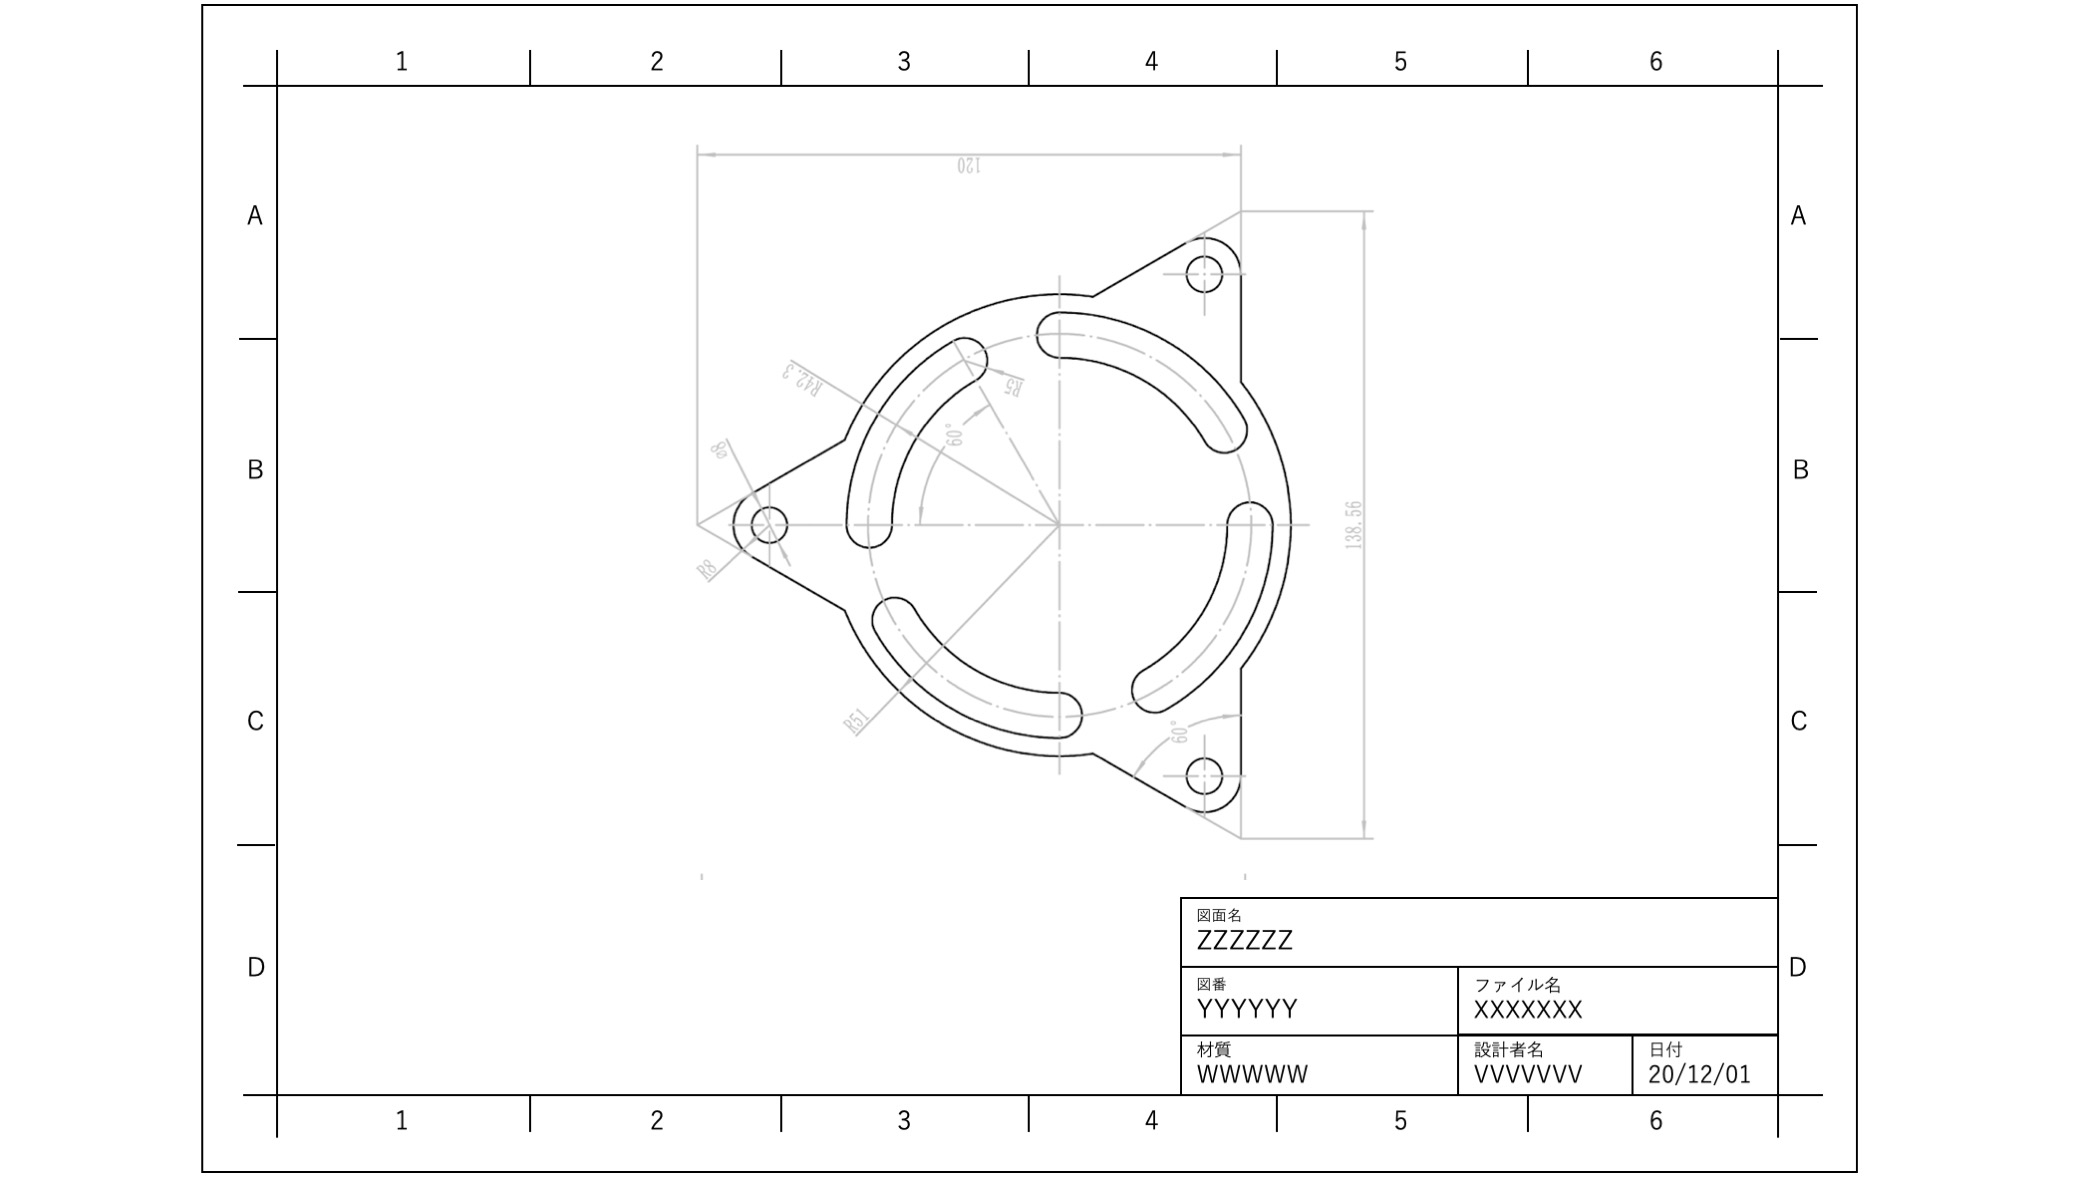circle: (1180, 249, 1230, 298), (746, 502, 800, 547), (1183, 753, 1225, 795)
round_rectangle: (855, 596, 1095, 761), (824, 323, 989, 549), (1036, 301, 1250, 470), (1121, 495, 1274, 712)
